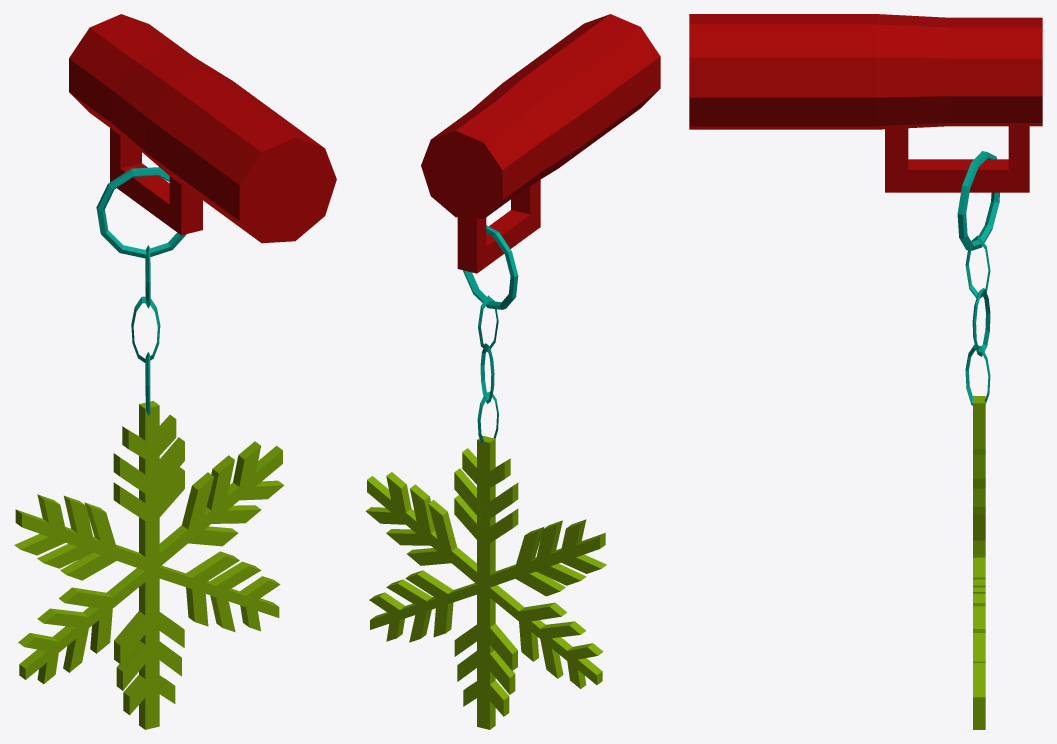
The model's file is Snowflake charm.fbx.
The picture shows the model from 3 angles, left to right: view 1: azimuth 30°, elevation 25°; view 2: azimuth 150°, elevation 25°; view 3: azimuth 270°, elevation 25°; orthographic projection. The views are drawn at different scales.
Parts seen in each view (by area): view 1: Charm_holder2; view 2: Charm_holder2; view 3: Charm_holder2.
Part boxes in pixels (x1,y1,x2,y2): Charm_holder2: (14,14,336,729); Charm_holder2: (365,14,660,729); Charm_holder2: (689,14,1042,729).
Bounding box in the file's own units: 3.79 × 9.48 × 4.32.
